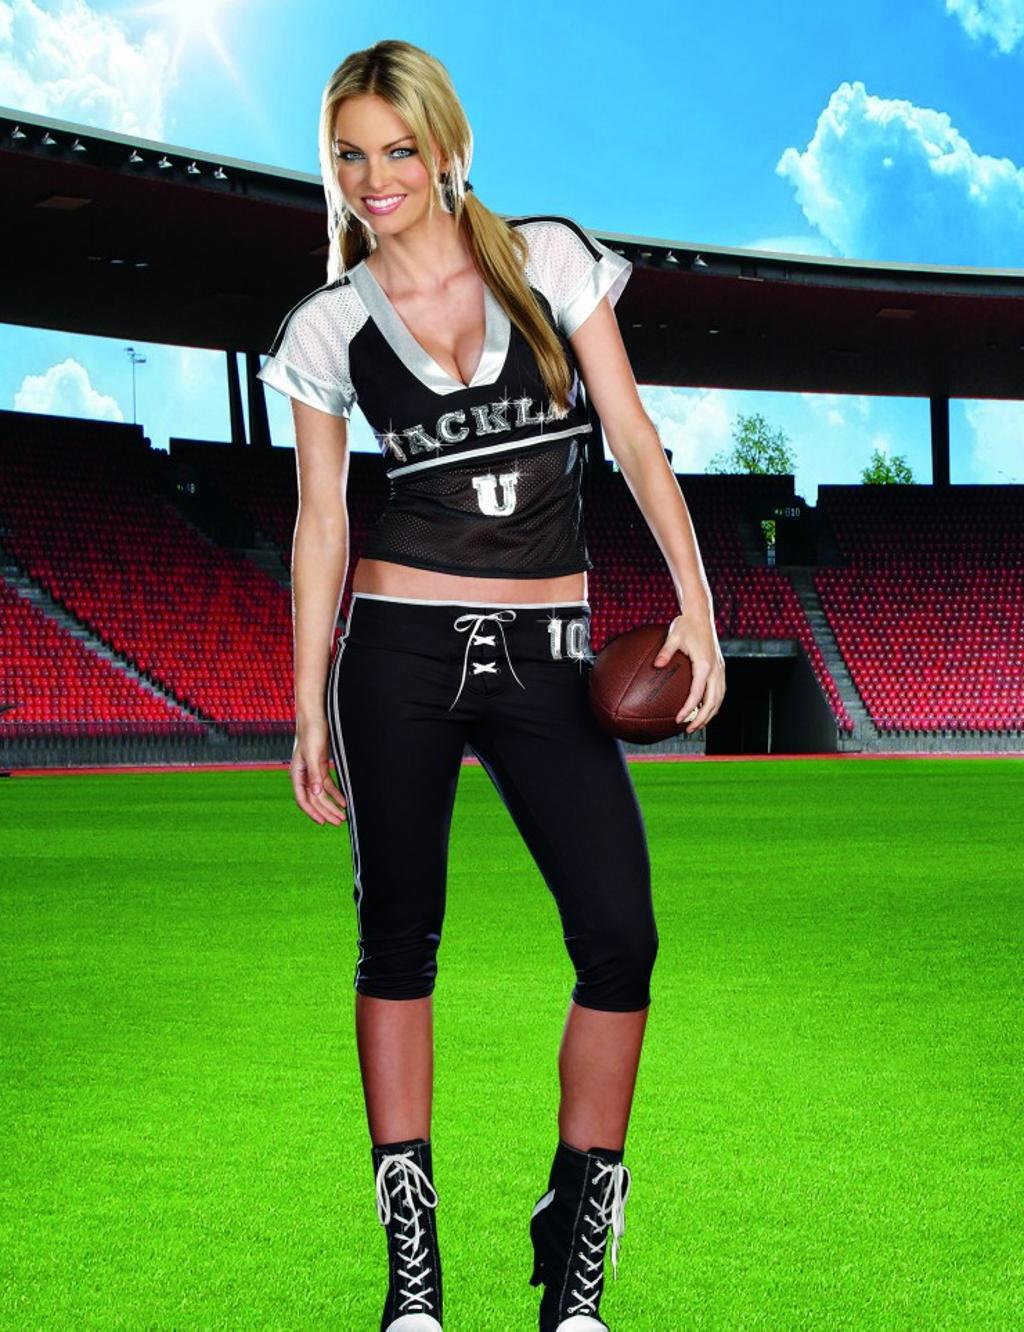face: (336, 92, 437, 240)
